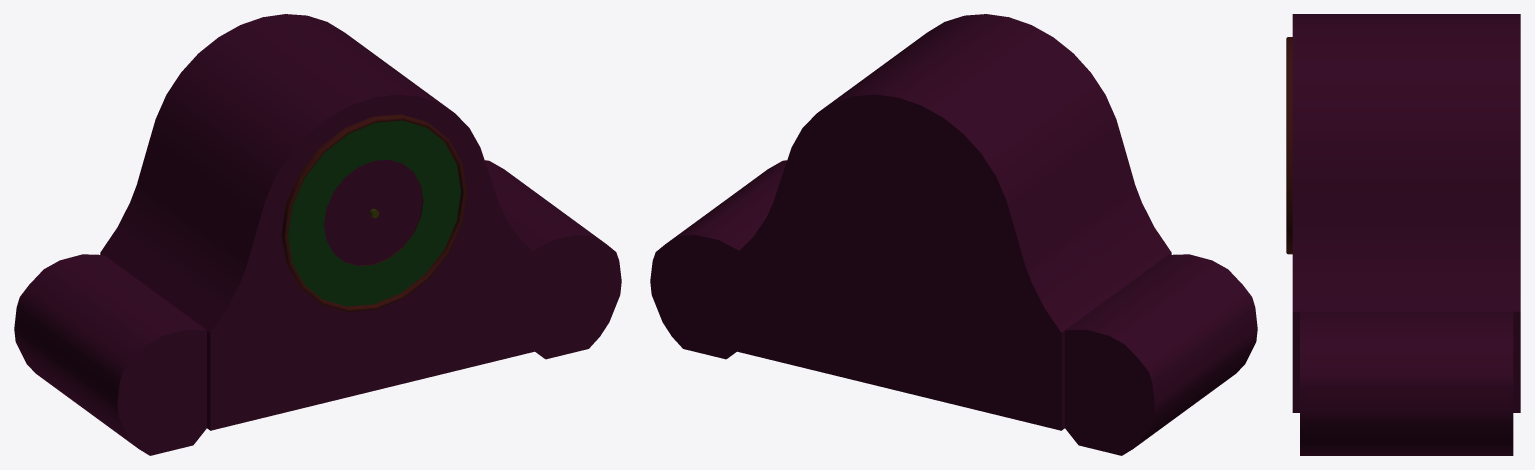
The model's file is base_clock.fbx.
The picture shows the model from 3 angles, left to right: view 1: azimuth 30°, elevation 25°; view 2: azimuth 150°, elevation 25°; view 3: azimuth 270°, elevation 25°; orthographic projection. The views are drawn at different scales.
Visible parts, largest first — view 1: base_clock; view 2: base_clock; view 3: base_clock.
Boxes of the visible parts, x1,y1,x2,y2 form: base_clock: (14, 14, 621, 455); base_clock: (650, 14, 1257, 455); base_clock: (1286, 14, 1520, 455).
Bounding box in the file's own units: 9.6 × 5.59 × 3.73.
